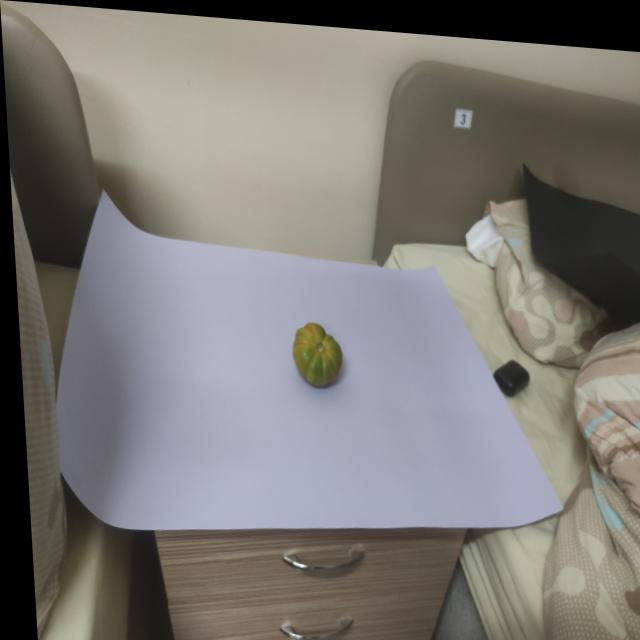yesil: (274, 304, 354, 396)
